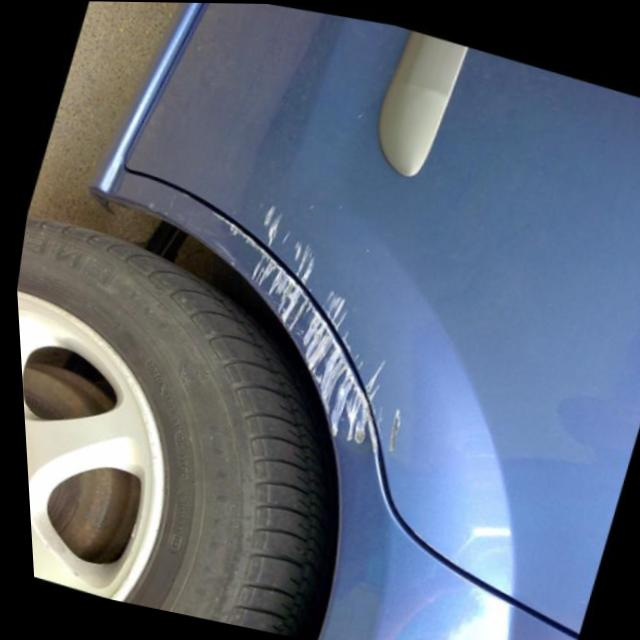Scratch: (213, 223, 436, 460)
